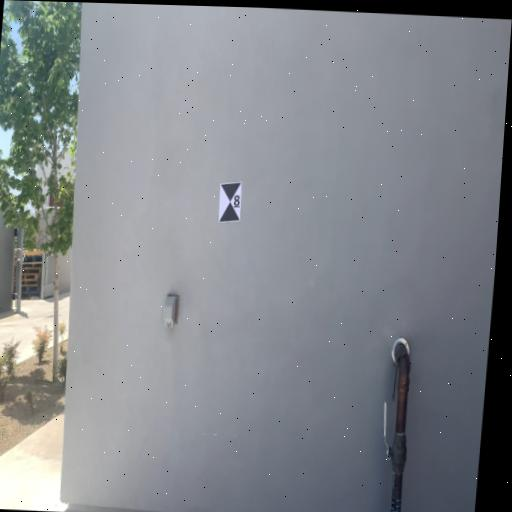target8: (217, 180, 243, 223)
